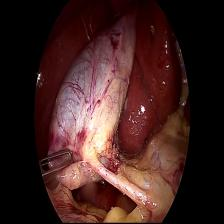Grasper: (38, 143, 77, 188)
